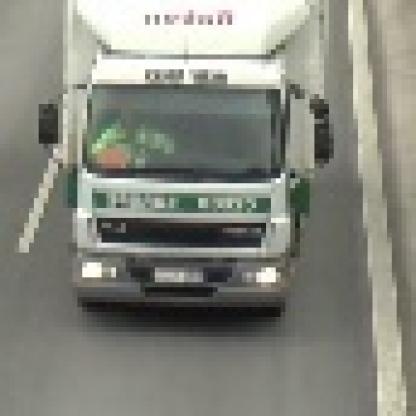truck: (35, 1, 330, 313)
